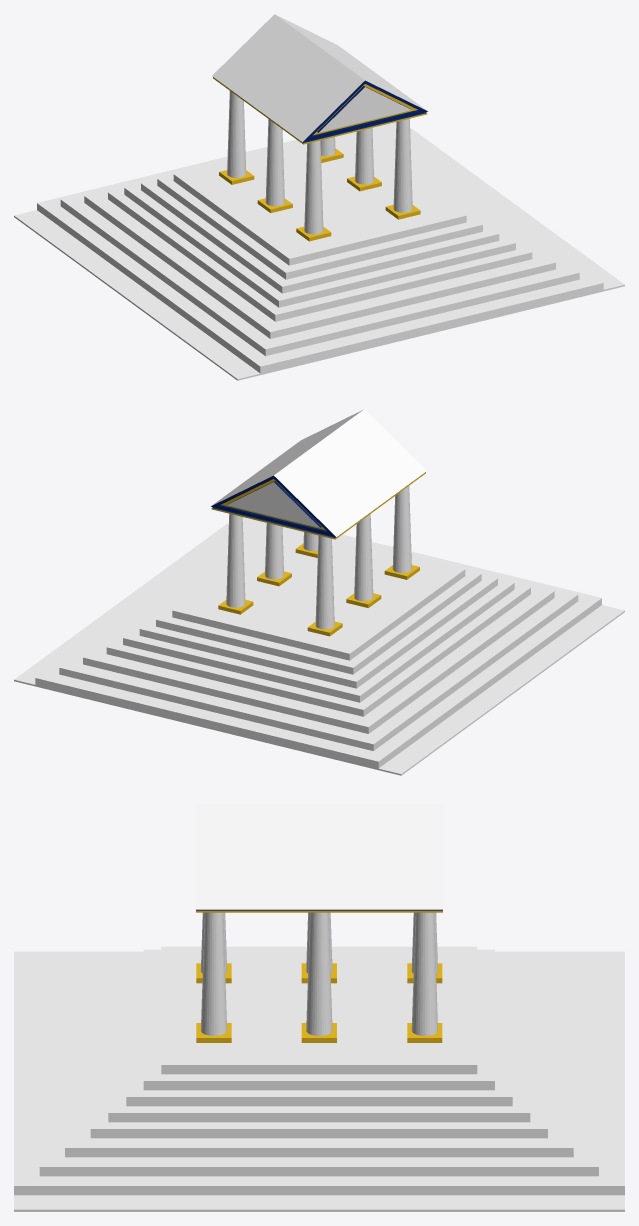
The model's file is votingBuilding.glb.
The picture shows the model from 3 angles, top to bottom: view 1: azimuth 30°, elevation 25°; view 2: azimuth 150°, elevation 25°; view 3: azimuth 270°, elevation 25°; orthographic projection. The views are drawn at different scales.
Visible parts, largest first — view 1: staircase, building.001, Cube, building; view 2: staircase, building.001, Cube, building; view 3: staircase, building.001, Cube, building.
Part boxes in pixels (x1,y1,x2,y2): staircase: (37, 124, 603, 373); building.001: (212, 14, 427, 144); Cube: (14, 122, 624, 380); building: (219, 91, 420, 241); staircase: (35, 519, 601, 768); building.001: (211, 409, 426, 539); Cube: (14, 517, 624, 775); building: (218, 486, 419, 636); staircase: (14, 946, 624, 1195); building.001: (195, 804, 443, 912); Cube: (14, 951, 624, 1211); building: (196, 912, 442, 1042).
Size of what is drawn, in the model's own units: 16 by 8.06 by 16.
2 materials, 2 textured.
